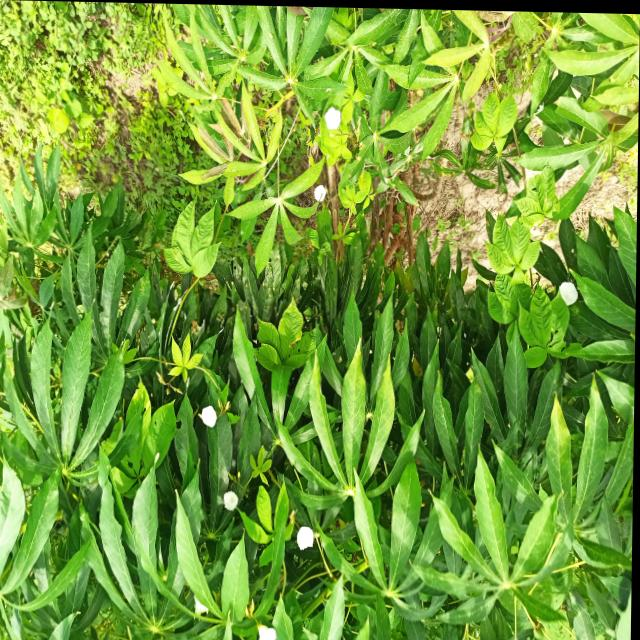Maleza: (4, 10, 118, 139), (82, 87, 177, 189), (479, 216, 538, 322), (515, 306, 592, 367), (162, 203, 220, 281), (253, 297, 315, 367), (469, 87, 524, 145), (168, 332, 198, 381)
Mosca: (321, 83, 333, 100)
